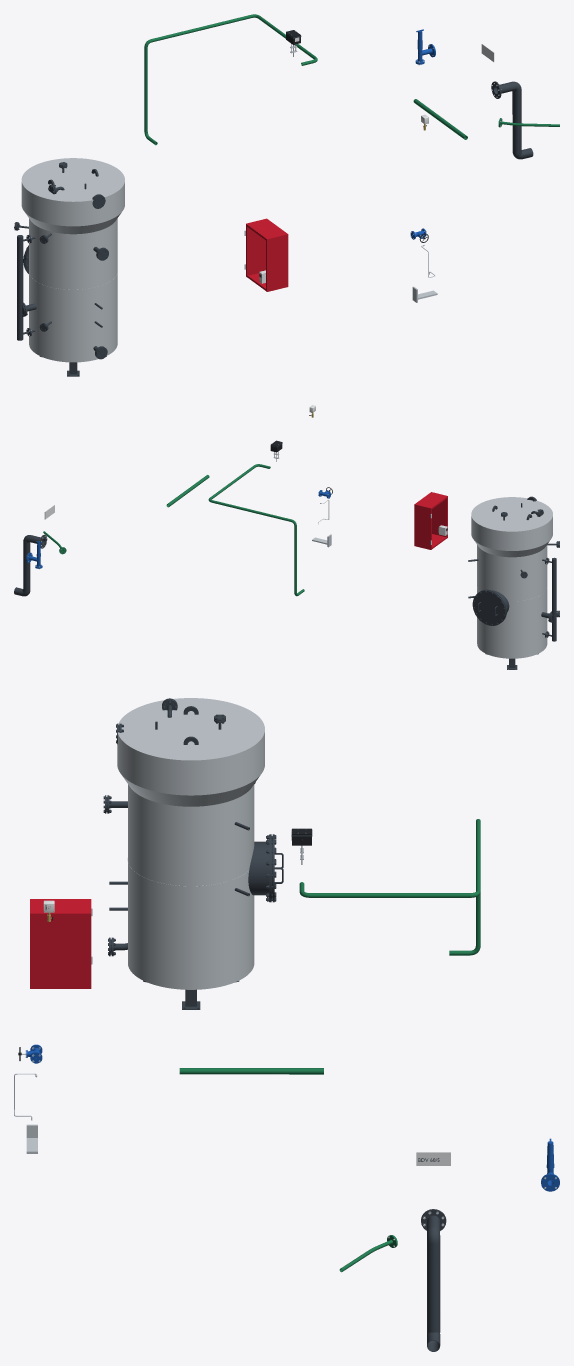
3 views of the same model, one above another, from view 1: azimuth 30°, elevation 25°; view 2: azimuth 150°, elevation 25°; view 3: azimuth 270°, elevation 25° (orthographic). The views are drawn at different scales.
Visible parts, largest first — view 1: deaerator / shell, control_cabinet / control_cabinet_0.npz, from_economizer / green, bdv_water_drain / dark, deaerator / dark; view 2: deaerator / shell, control_cabinet / control_cabinet_0.npz, DA3 CAD 76, from_economizer / green, bdv_water_drain / dark, deaerator / dark; view 3: deaerator / shell, control_cabinet / control_cabinet_0.npz, bdv_water_drain / dark, from_economizer / green, pump_delivery / green, DA3 CAD 11.
Boxes of the visible parts, box(x1,y1,x2,y2) form: deaerator / shell: box(21, 158, 124, 362); control_cabinet / control_cabinet_0.npz: box(244, 218, 288, 291); from_economizer / green: box(144, 14, 317, 145); bdv_water_drain / dark: box(491, 81, 533, 159); deaerator / dark: box(17, 235, 35, 340); deaerator / shell: box(471, 497, 552, 658); control_cabinet / control_cabinet_0.npz: box(414, 492, 447, 549); DA3 CAD 76: box(472, 590, 505, 625); from_economizer / green: box(208, 464, 304, 596); bdv_water_drain / dark: box(14, 534, 47, 596); deaerator / dark: box(542, 557, 556, 641); deaerator / shell: box(117, 698, 264, 989); control_cabinet / control_cabinet_0.npz: box(30, 899, 92, 988); bdv_water_drain / dark: box(421, 1209, 446, 1351); from_economizer / green: box(299, 819, 480, 955); pump_delivery / green: box(179, 1068, 323, 1074); DA3 CAD 11: box(248, 841, 269, 895).
Bounding box in the file's own units: 8.55 × 3.24 × 4.73.
